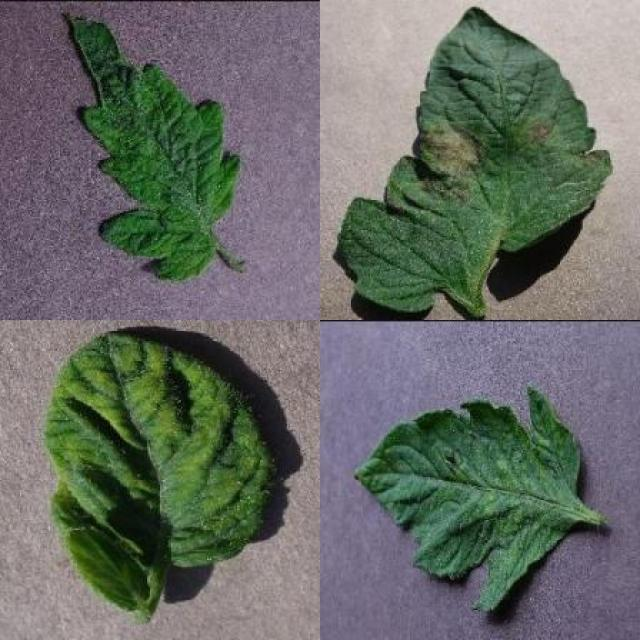Late Blight: (340, 3, 616, 310)
Mosaic Virus: (352, 384, 582, 610), (66, 10, 244, 284)
Yellow Leaf Curl Virus: (42, 334, 275, 612)
